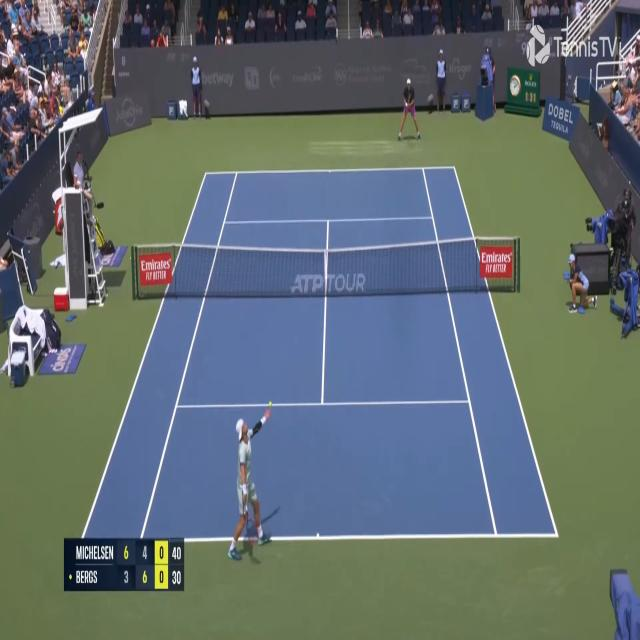tennis-player: (227, 396, 282, 566), (396, 75, 421, 142)
